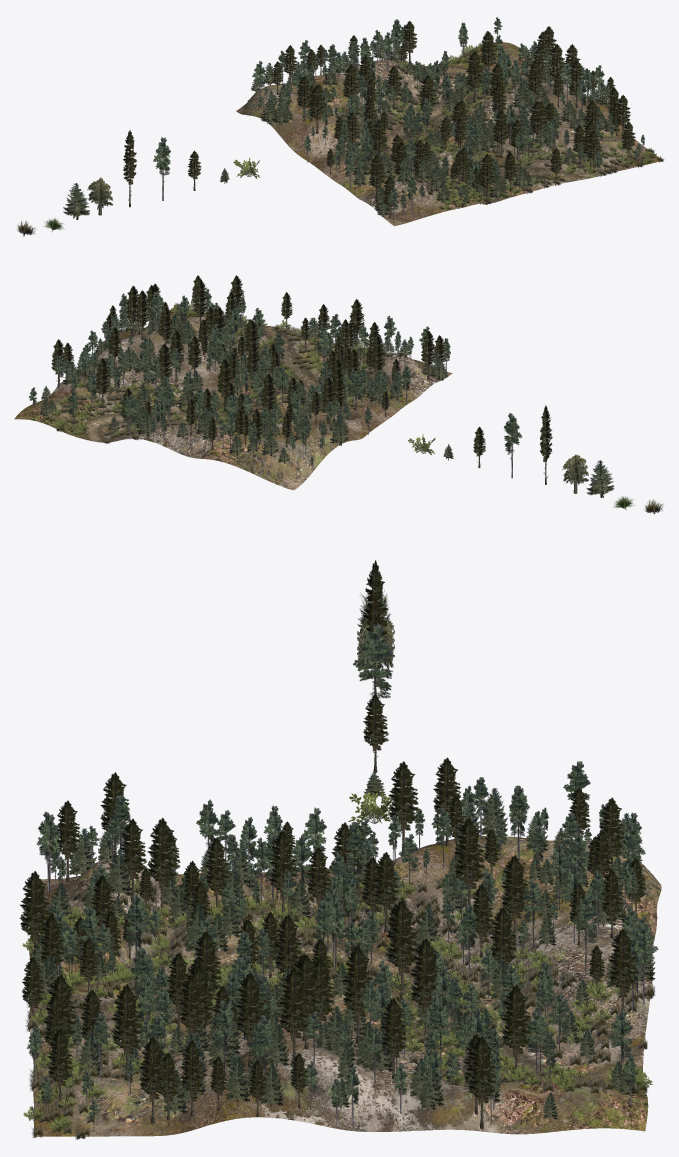
The model's file is a_forest_3_with_a_road_at_night_for_game.glb.
3 renders of one model, top to bottom at view 1: azimuth 30°, elevation 25°; view 2: azimuth 150°, elevation 25°; view 3: azimuth 270°, elevation 25°, orthographic. The views are drawn at different scales.
Visible parts, largest first — view 1: Plane.002, Plane.005, Plane.006, Cylinder.001, 05ade0e713892be558511d706fa6c547-no-bg-preview (carve.photos, Cylinder.058, Cylinder.034, Cylinder.007, Cylinder.049, Cylinder.070, Cylinder.004, Cylinder.026 (+9 smaller); view 2: Plane.002, Plane.006, Plane.005, Cylinder.001, 05ade0e713892be558511d706fa6c547-no-bg-preview (carve.photos, Cylinder.071, Cylinder.026, Cylinder.070, Cylinder.073, Cylinder.004, Cylinder.047, Cylinder.012 (+2 smaller); view 3: Plane.002, 05ade0e713892be558511d706fa6c547-no-bg-preview (carve.photos (×2), Cylinder.047, Cylinder.077, Cylinder.026, Cylinder.071, Cylinder.012, Cylinder.007, Cylinder.070, Cylinder.085, Cylinder.034, Cylinder.058 (+29 smaller).
Part boxes in pixels (x1,y1,x2,y2): Plane.002: (236,42,662,226); Plane.005: (63,183,89,219); Plane.006: (87,177,113,215); Cylinder.001: (123,130,136,207); 05ade0e713892be558511d706fa6c547-no-bg-preview (carve.photos: (153,137,170,200); Cylinder.058: (465,51,483,102); Cylinder.034: (478,154,495,203); Cylinder.007: (309,84,325,133); Cylinder.049: (493,110,509,158); Cylinder.070: (480,31,496,72); Cylinder.004: (368,154,384,202); Cylinder.026: (342,64,359,97); Plane.002: (14,306,452,490); Plane.006: (562,454,588,493); Plane.005: (586,460,614,498); Cylinder.001: (539,405,552,484); 05ade0e713892be558511d706fa6c547-no-bg-preview (carve.photos: (504,413,522,478); Cylinder.071: (193,279,208,328); Cylinder.026: (261,373,277,414); Cylinder.070: (95,358,110,407); Cylinder.073: (134,290,150,339); Cylinder.004: (421,330,436,379); Cylinder.047: (217,359,233,411); Cylinder.012: (370,335,385,375); Plane.002: (29,836,661,1136); 05ade0e713892be558511d706fa6c547-no-bg-preview (carve.photos (×2): (125,623,393,957); Cylinder.047: (386,900,418,1000); Cylinder.077: (278,967,309,1062); Cylinder.026: (453,817,486,904); Cylinder.071: (111,984,143,1080); Cylinder.012: (147,818,179,913); Cylinder.007: (388,761,420,857); Cylinder.070: (501,985,532,1076); Cylinder.085: (467,1036,497,1129); Cylinder.034: (19,871,50,962); Cylinder.058: (410,938,440,1036).
Size of the model in its own units: 19.24 by 2.85 by 9.74.
Materials: 3 (3 with a texture image).
